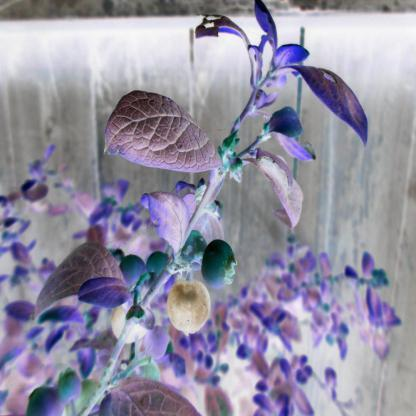Blueberry leaf: (97, 81, 234, 182), (20, 238, 142, 320), (242, 137, 320, 232)
